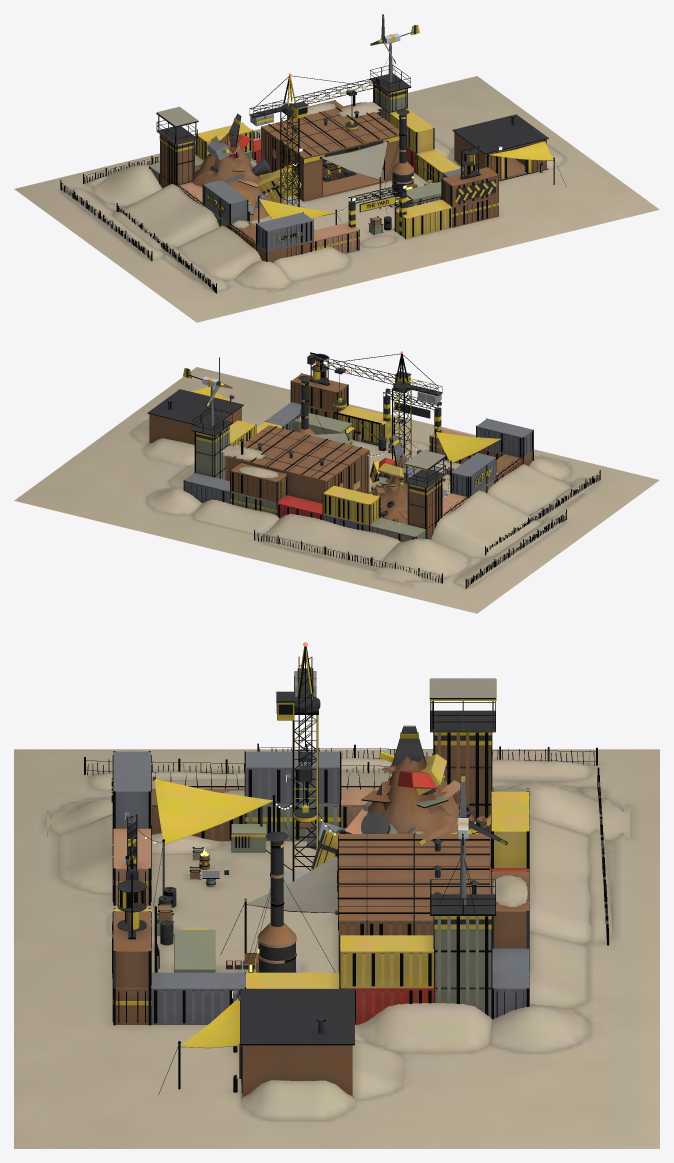
The model's file is yard.glb.
The picture shows the model from 3 angles, top to bottom: view 1: azimuth 30°, elevation 25°; view 2: azimuth 150°, elevation 25°; view 3: azimuth 270°, elevation 25°; orthographic projection. The views are drawn at different scales.
Visible parts, largest first — view 1: hull, spin.y.1.2; view 2: hull, spin.y.1.2; view 3: hull, spin.y.1.2, spin.y.40.1, spin.x.30.0.
Boxes of the visible parts, x1,y1,x2,y2 form: hull: [14, 24, 659, 322]; spin.y.1.2: [249, 73, 384, 132]; hull: [14, 352, 659, 613]; spin.y.1.2: [307, 351, 442, 410]; hull: [14, 678, 659, 1148]; spin.y.1.2: [276, 642, 320, 827]; spin.y.40.1: [117, 880, 146, 931]; spin.x.30.0: [418, 774, 507, 845].
Size of the model in its own units: 60 by 18.11 by 41.
Materials: 27 (20 with a texture image).
